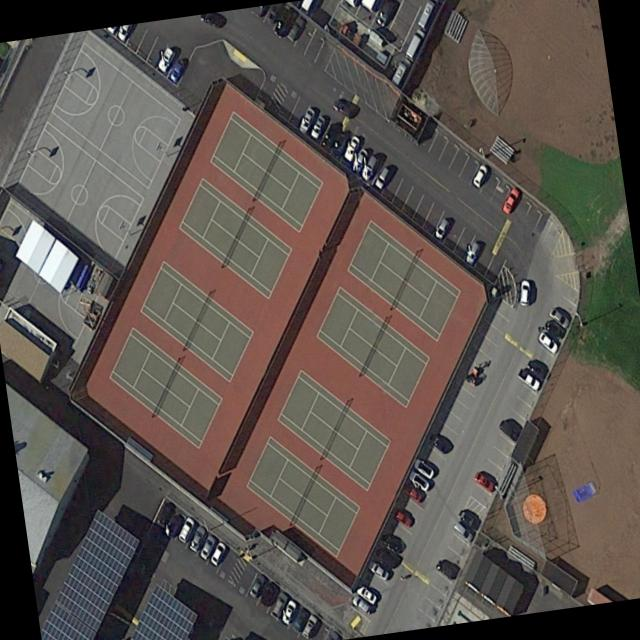large-vehicle: (404, 25, 427, 60), (416, 0, 438, 28)
small-vehicle: (272, 4, 294, 39), (318, 121, 340, 154), (257, 577, 279, 610), (288, 603, 310, 635), (154, 499, 176, 530), (410, 455, 436, 481), (374, 0, 398, 28), (285, 12, 306, 43), (426, 428, 450, 454), (497, 416, 521, 442), (473, 468, 496, 495), (165, 509, 185, 540), (500, 185, 520, 215), (516, 366, 541, 390), (330, 130, 350, 160), (406, 467, 430, 492), (156, 44, 176, 73), (402, 479, 425, 503), (373, 545, 396, 569), (269, 590, 288, 619), (372, 162, 391, 191), (537, 330, 559, 355), (470, 161, 489, 189), (167, 56, 186, 84), (367, 558, 390, 581), (456, 506, 479, 529), (435, 557, 457, 581), (452, 519, 474, 543), (188, 523, 206, 552), (300, 611, 318, 640), (359, 154, 378, 181), (350, 147, 369, 174), (548, 305, 570, 328), (177, 515, 195, 543), (248, 571, 266, 599), (382, 530, 403, 554), (464, 238, 482, 265), (198, 532, 216, 559), (343, 134, 361, 161), (350, 592, 372, 614), (544, 318, 565, 341), (526, 357, 547, 380), (392, 506, 413, 528), (356, 583, 378, 604), (210, 539, 227, 566), (298, 105, 315, 132), (281, 598, 298, 624), (433, 215, 450, 241), (332, 96, 352, 118), (310, 113, 326, 139), (520, 279, 530, 305)
